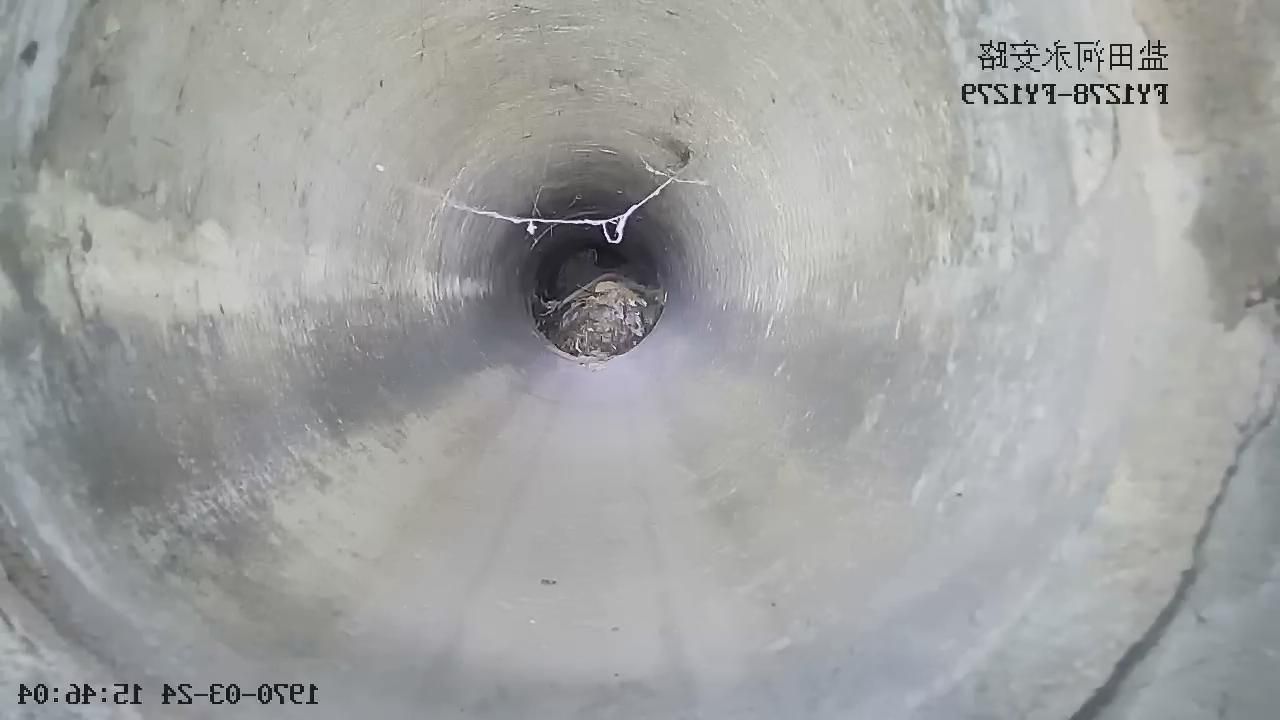ZAW: (538, 273, 665, 365)
